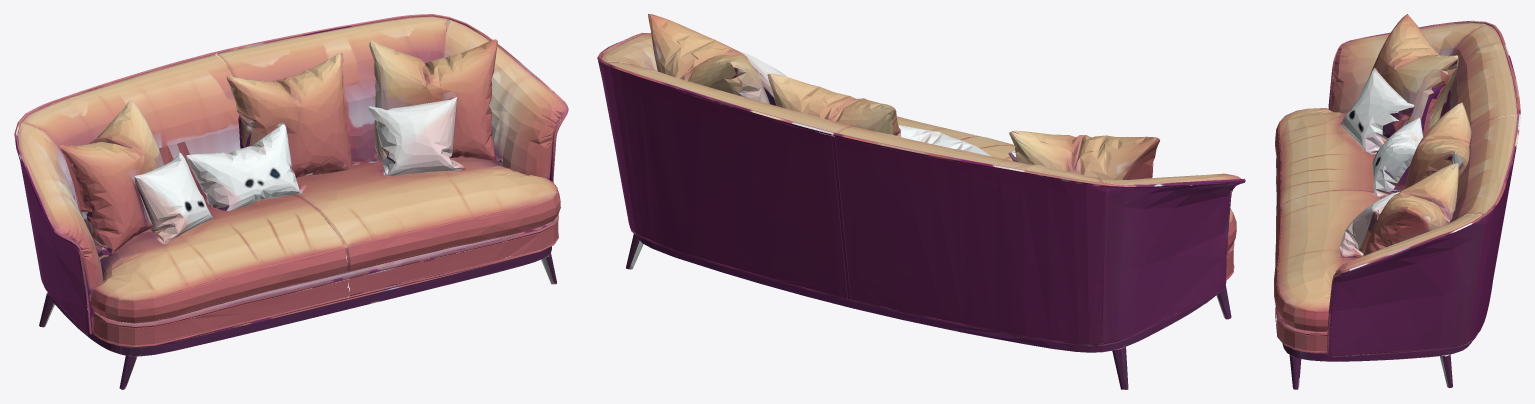
Rendered from edited_mesh.glb.
3 views of the same model, side by side, from view 1: azimuth 30°, elevation 25°; view 2: azimuth 150°, elevation 25°; view 3: azimuth 270°, elevation 25° (orthographic). The views are drawn at different scales.
Visible parts, largest first — view 1: solid_001_wire; view 2: solid_001_wire; view 3: solid_001_wire.
Boxes of the visible parts, x1,y1,x2,y2 form: solid_001_wire: (14,14,568,389); solid_001_wire: (597,14,1245,389); solid_001_wire: (1274,14,1520,389).
Size of the model in its own units: 2 by 0.7466 by 0.909.
Materials: 1 (1 with a texture image).
